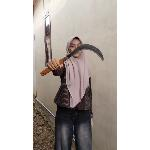Celurit: (40, 40, 108, 78)
